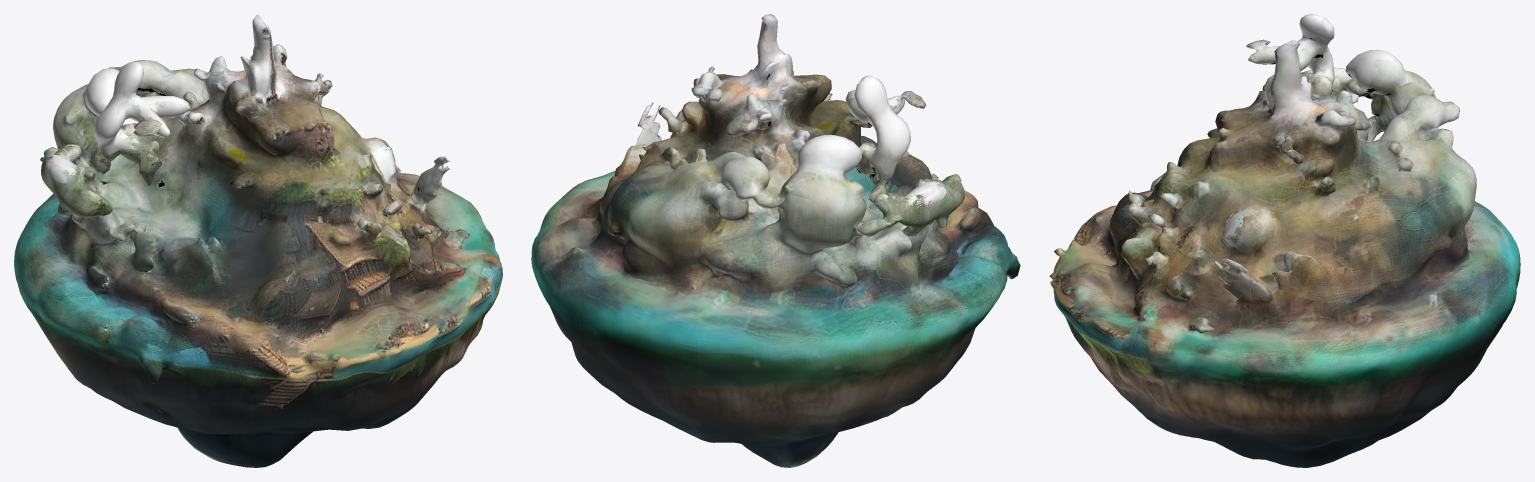
3 views of the same model, side by side, from view 1: azimuth 30°, elevation 25°; view 2: azimuth 150°, elevation 25°; view 3: azimuth 270°, elevation 25° (orthographic). The views are drawn at different scales.
Parts seen in each view (by area): view 1: model.obj_1; view 2: model.obj_1; view 3: model.obj_1.
Boxes of the visible parts, x1=… form: model.obj_1: x1=14, y1=14, x2=502, y2=467; model.obj_1: x1=531, y1=14, x2=1020, y2=467; model.obj_1: x1=1049, y1=14, x2=1520, y2=467.
Size of the model in its own units: 1.07 by 1.06 by 1.07.
Materials: 1 (1 with a texture image).
